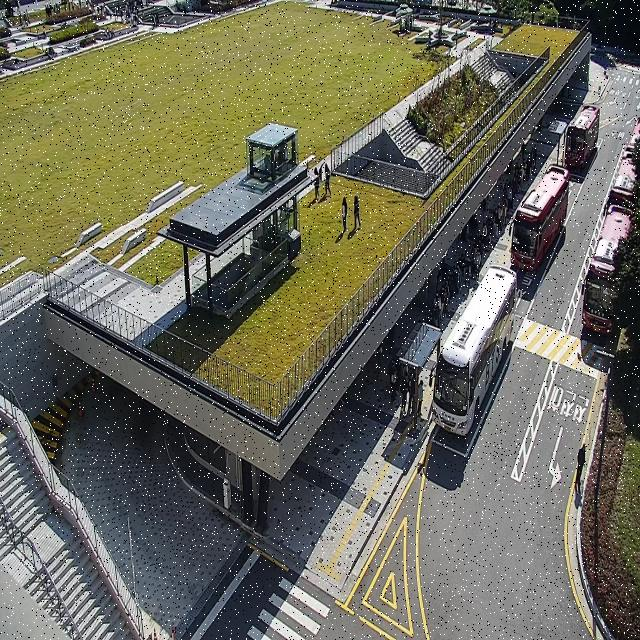queue: (413, 139, 540, 439)
